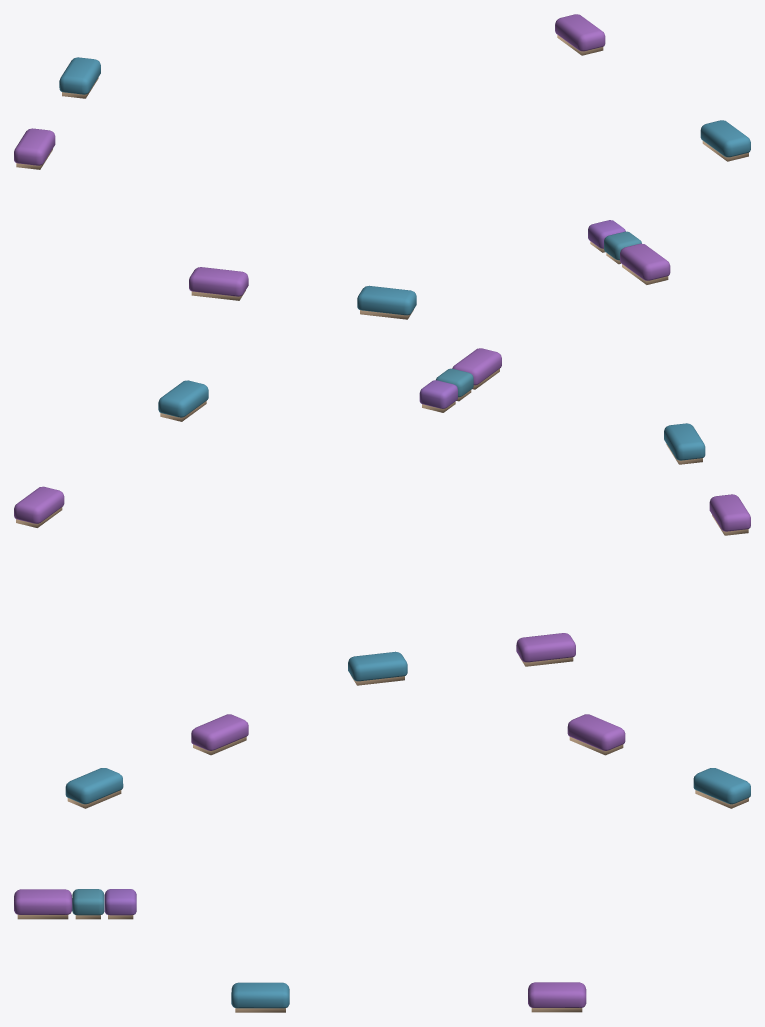
File: d-roomcomp-d-arcade-in.glb
3 renders of one model, top to bottom at view 1: azimuth 30°, elevation 25°; view 2: azimuth 150°, elevation 25°; view 3: azimuth 270°, elevation 25°, orthographic. The views are drawn at different scales.
Parts seen in each view (by area): view 1: D-Room Deko Arcade I; view 2: D-Room Deko Arcade I; view 3: D-Room Deko Arcade I.
Boxes of the visible parts, <box> form: D-Room Deko Arcade I: <box>14,14,750,319</box>; D-Room Deko Arcade I: <box>14,348,750,685</box>; D-Room Deko Arcade I: <box>14,714,750,1012</box>.
Bounding box in the file's own units: 13.49 × 0.4497 × 14.91.
Materials: 1 (1 with a texture image).
